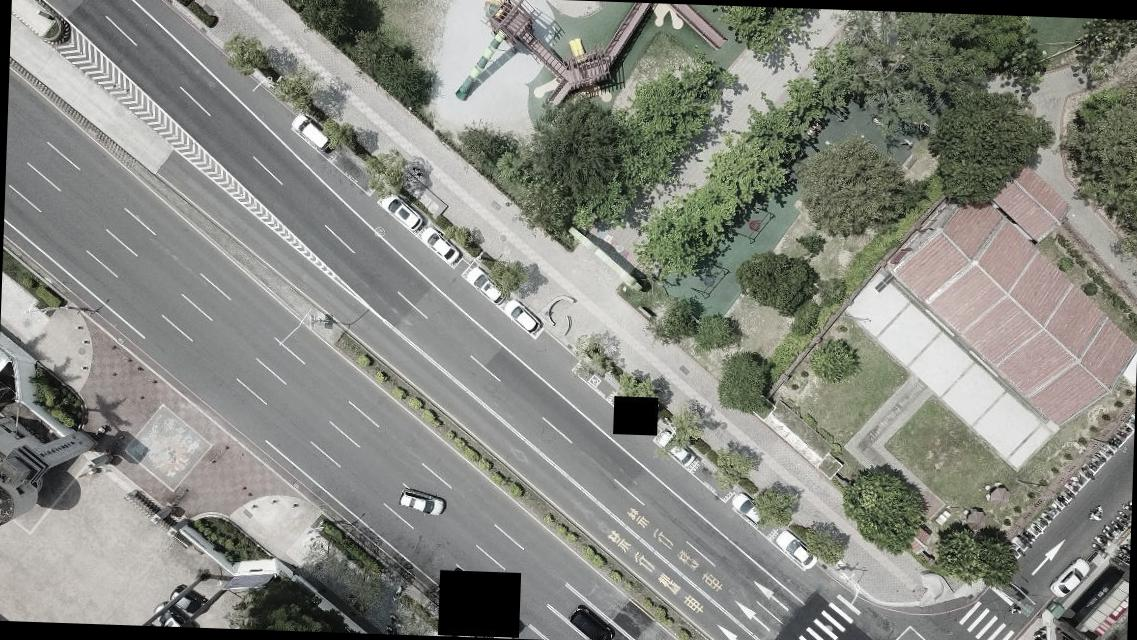vehicle: (566, 604, 617, 639), (774, 530, 818, 570), (379, 193, 424, 231), (1050, 557, 1090, 598), (655, 430, 698, 468), (465, 266, 506, 304), (419, 227, 462, 263), (291, 114, 333, 150), (502, 299, 542, 335), (398, 487, 445, 515), (732, 492, 767, 525), (151, 600, 191, 626), (168, 584, 202, 614)
